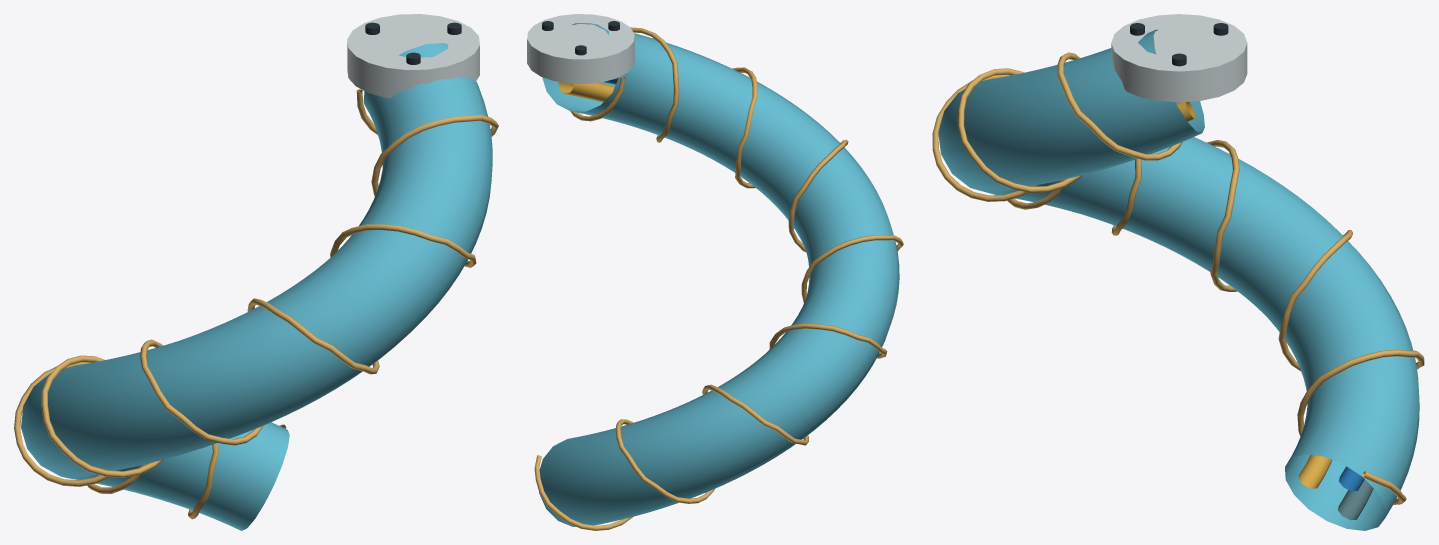
Rendered from ODHA-schematic.glb.
The picture shows the model from 3 angles, left to right: view 1: azimuth 30°, elevation 25°; view 2: azimuth 150°, elevation 25°; view 3: azimuth 270°, elevation 25°; orthographic projection. The views are drawn at different scales.
Visible parts, largest first — view 1: 三腔硅胶基体, Kevlar 螺旋纤维, 端盖; view 2: 三腔硅胶基体, Kevlar 螺旋纤维, 端盖, 独立气腔 2; view 3: 三腔硅胶基体, 端盖, Kevlar 螺旋纤维, 独立气腔 2, 独立气腔 3.
Part boxes in pixels (x1,y1,x2,y2): 三腔硅胶基体: (21,43,492,530); Kevlar 螺旋纤维: (14,89,498,519); 端盖: (347,14,479,98); 三腔硅胶基体: (539,23,899,526); Kevlar 螺旋纤维: (534,27,903,530); 端盖: (527,14,634,83); 独立气腔 2: (558,82,614,102); 三腔硅胶基体: (938,29,1419,530); 端盖: (1111,14,1247,102); Kevlar 螺旋纤维: (932,52,1424,504); 独立气腔 2: (1176,101,1332,488); 独立气腔 3: (1338,479,1373,520).
Bounding box in the file's own units: 1.77 × 2.1 × 1.73.
